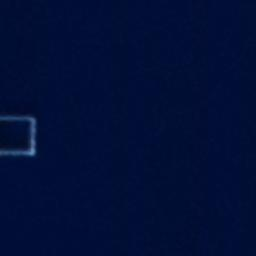square_solid: (1, 110, 42, 162)
